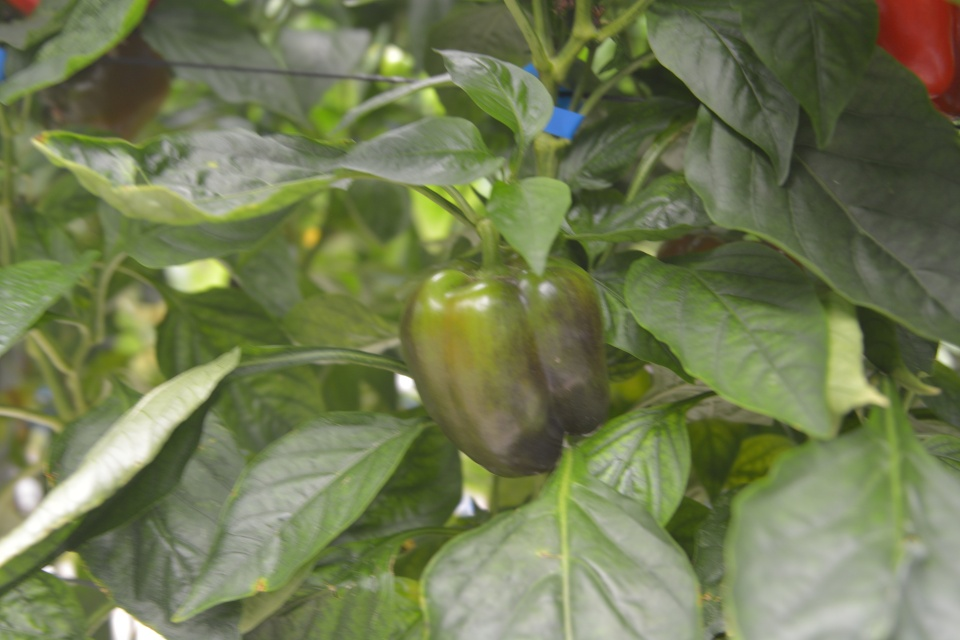fruit: (398, 242, 612, 482), (38, 31, 176, 140), (875, 0, 960, 127)
pedicle: (473, 266, 526, 280)
